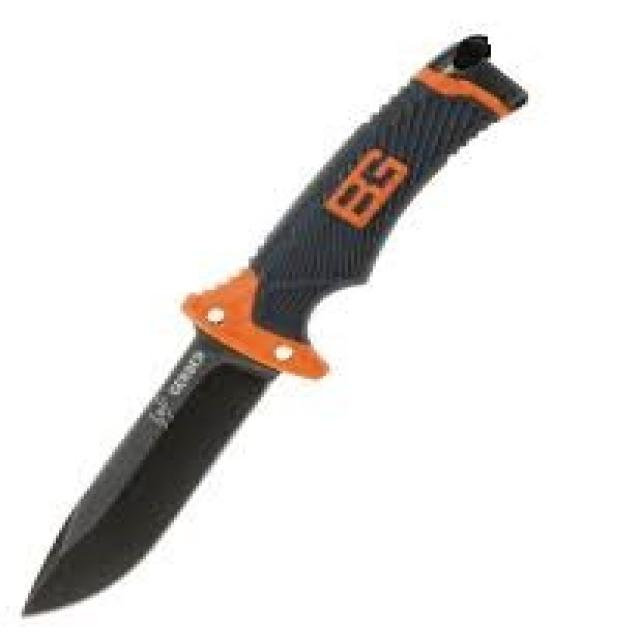knife: (17, 27, 535, 625)
